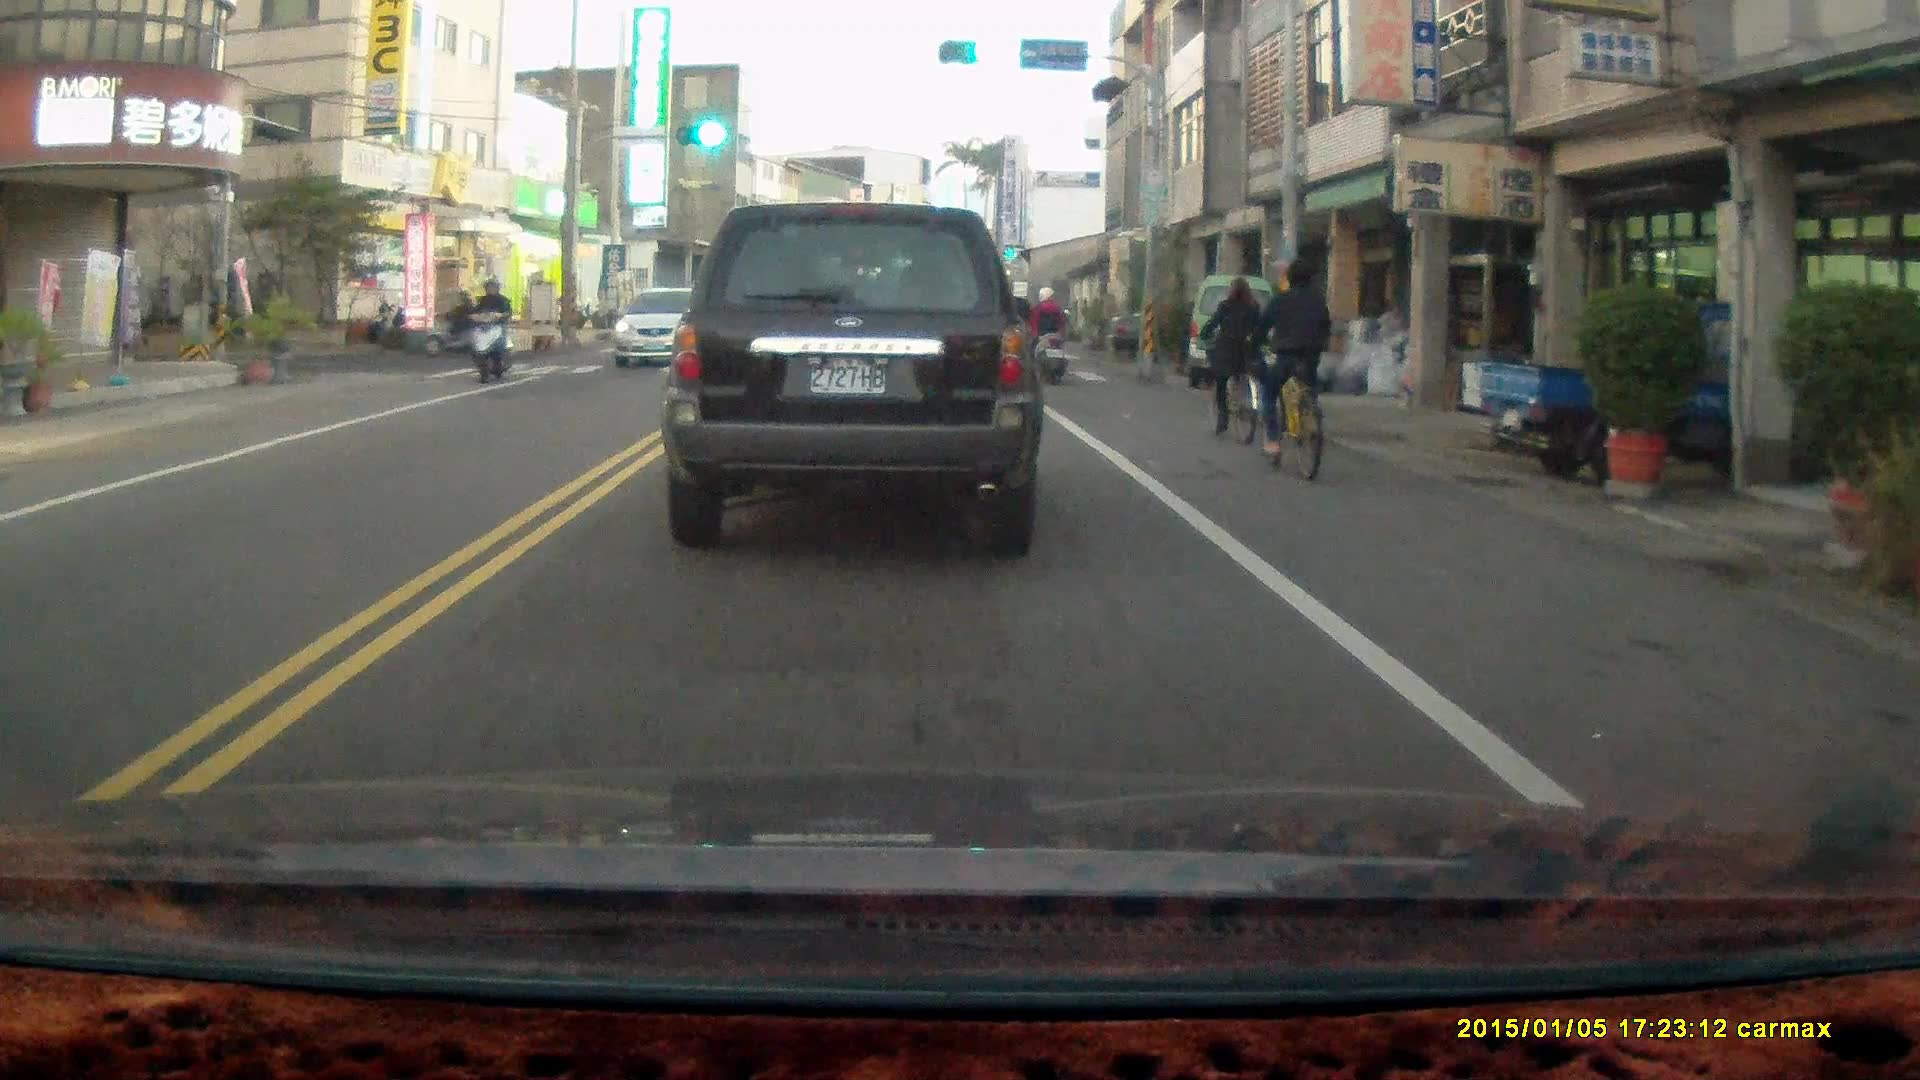rider: (1239, 258, 1332, 480), (1200, 277, 1262, 440), (421, 285, 492, 361), (467, 275, 515, 385), (1024, 285, 1069, 388)
vehicle: (659, 200, 1047, 554), (1186, 277, 1294, 386), (616, 285, 717, 368)
